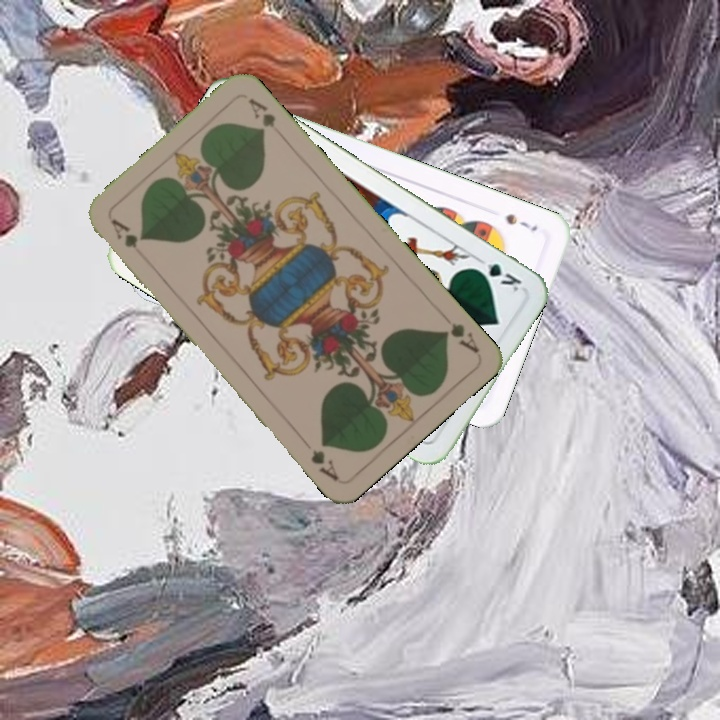GA: (107, 214, 148, 264), (438, 318, 482, 356)
GK: (469, 253, 525, 295)
S7: (502, 209, 540, 234)
